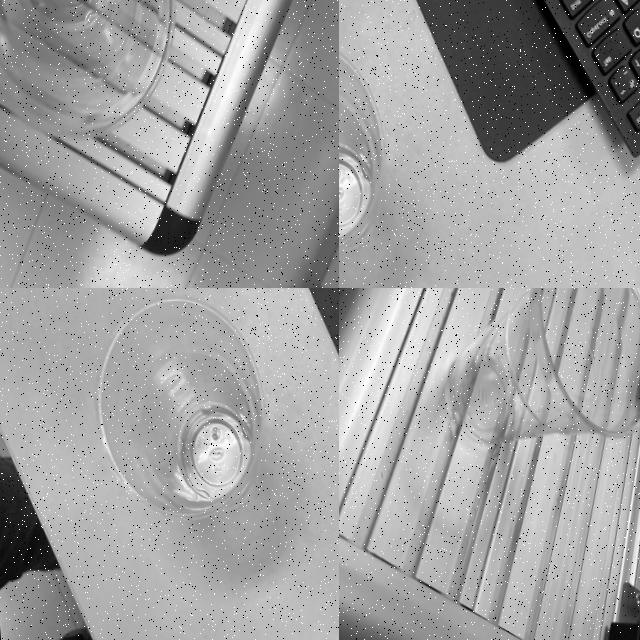glass: (84, 289, 269, 524), (427, 288, 640, 481), (0, 0, 183, 151), (339, 28, 388, 263)
